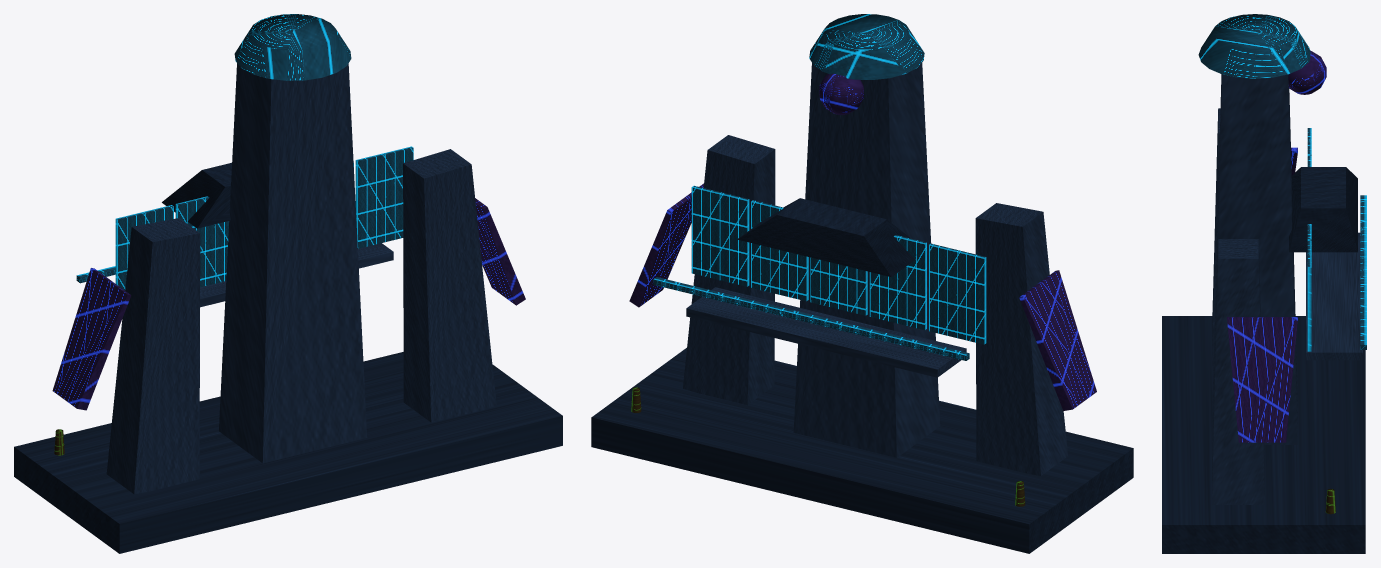
File: command-horizon-command-deck-lod0-textured.glb
3 views of the same model, side by side, from view 1: azimuth 30°, elevation 25°; view 2: azimuth 150°, elevation 25°; view 3: azimuth 270°, elevation 25° (orthographic). The views are drawn at different scales.
Visible parts, largest first — view 1: deck-main-tower, deck-foundation, deck-wing--1, deck-wing-1, deck-crown, deck-fin--1, deck-facade-4, deck-canopy, deck-fin-1, deck-facade-1, deck-facade-0, deck-balcony; view 2: deck-foundation, deck-main-tower, deck-wing--1, deck-wing-1, deck-canopy, deck-balcony, deck-crown, deck-fin--1, deck-facade-4, deck-facade-0, deck-facade-1, deck-facade-3 (+6 smaller); view 3: deck-foundation, deck-main-tower, deck-wing-1, deck-fin-1, deck-balcony, deck-crown, deck-canopy, deck-holo-core, deck-wing--1, deck-facade-4.
Boxes of the visible parts, x1,y1,x2,y2 form: deck-main-tower: (219, 63, 367, 463); deck-foundation: (14, 352, 562, 553); deck-wing--1: (106, 218, 200, 494); deck-wing-1: (403, 149, 496, 422); deck-crown: (234, 14, 351, 80); deck-fin--1: (52, 268, 131, 410); deck-facade-4: (355, 146, 413, 248); deck-canopy: (162, 162, 231, 228); deck-fin-1: (475, 198, 525, 305); deck-facade-1: (175, 196, 229, 287); deck-facade-0: (115, 205, 173, 290); deck-balcony: (200, 243, 393, 307); deck-foundation: (591, 348, 1133, 553); deck-main-tower: (793, 63, 940, 457); deck-wing--1: (975, 203, 1067, 475); deck-wing-1: (683, 135, 775, 405); deck-canopy: (737, 198, 914, 276); deck-balcony: (686, 287, 966, 377); deck-crown: (809, 14, 924, 79); deck-fin--1: (1019, 270, 1096, 410); deck-facade-4: (691, 185, 749, 286); deck-facade-0: (929, 243, 986, 344); deck-facade-1: (869, 235, 926, 330); deck-facade-3: (751, 200, 808, 301); deck-foundation: (1162, 316, 1365, 553); deck-main-tower: (1212, 74, 1297, 444); deck-wing-1: (1212, 239, 1264, 504); deck-fin-1: (1227, 317, 1297, 442); deck-balcony: (1306, 232, 1362, 360); deck-crown: (1198, 14, 1310, 78); deck-canopy: (1289, 167, 1357, 252); deck-holo-core: (1288, 50, 1326, 94); deck-wing--1: (1212, 108, 1220, 365); deck-facade-4: (1307, 241, 1311, 351).
Size of the model in its own units: 6.89 by 6.33 by 2.81.
Materials: 5 (5 with a texture image).
